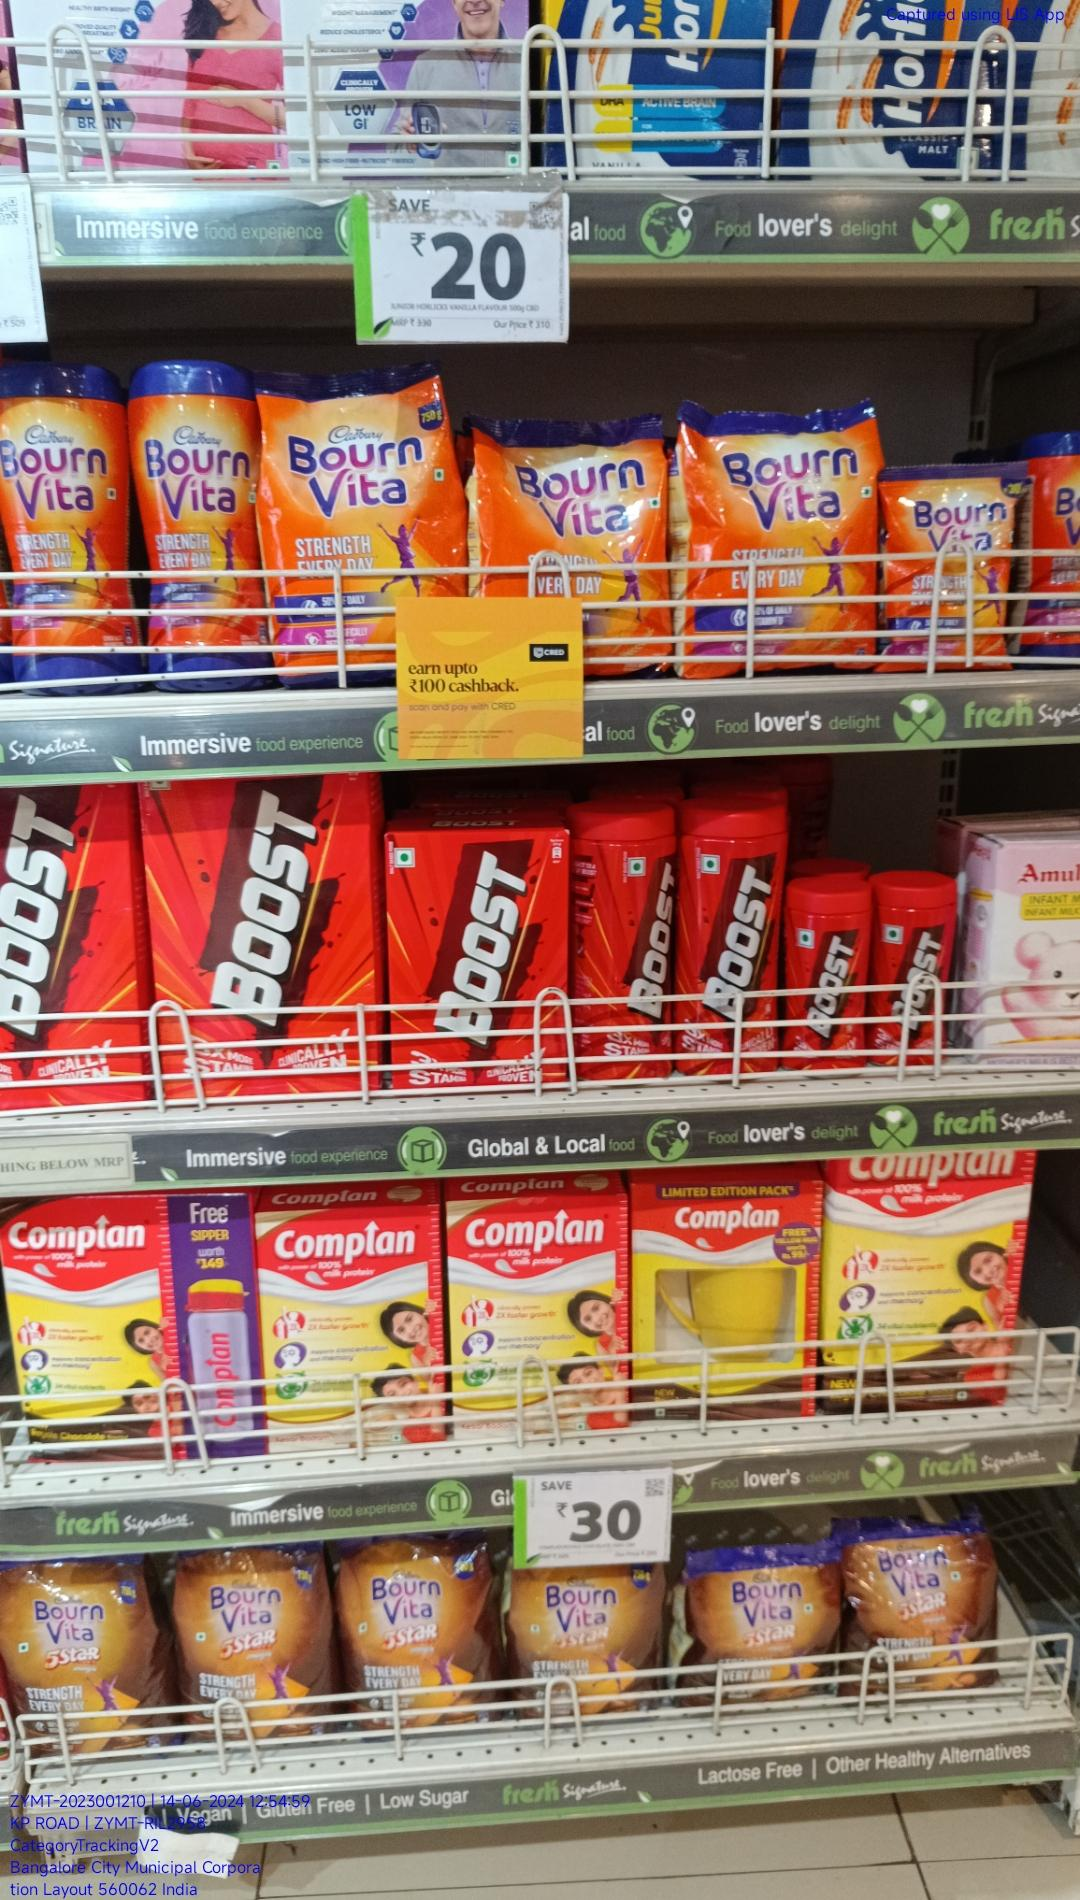BOURN_VITA_200_G_JAR: (0, 376, 137, 690), (140, 364, 269, 688)
BOURN_VITA_FIVE_STAR_MAGIC_500_G_POUCH: (853, 1525, 1000, 1676), (519, 1567, 665, 1709), (694, 1561, 835, 1707)
BOURN_VITA_FIVE_STAR_MAGIC_750_G_POUCH: (0, 1549, 149, 1747), (183, 1544, 329, 1738), (356, 1537, 485, 1724)
